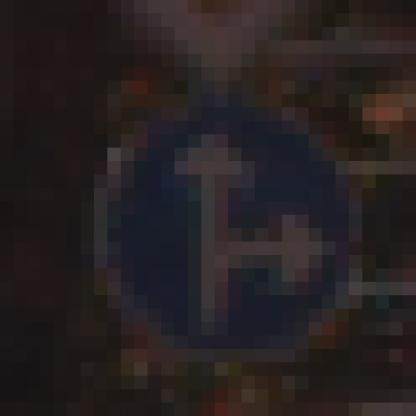Straight or Right: (68, 81, 337, 350)
